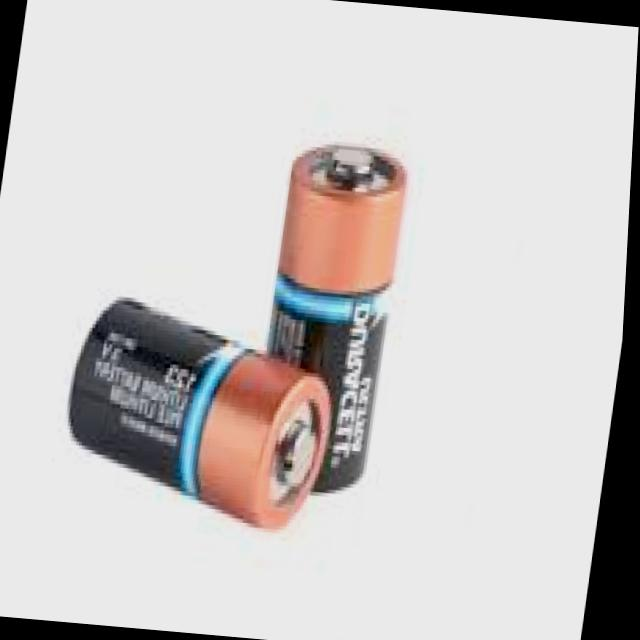B3: (35, 77, 446, 568)
